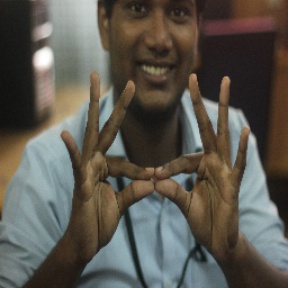B: (98, 135, 211, 224)
